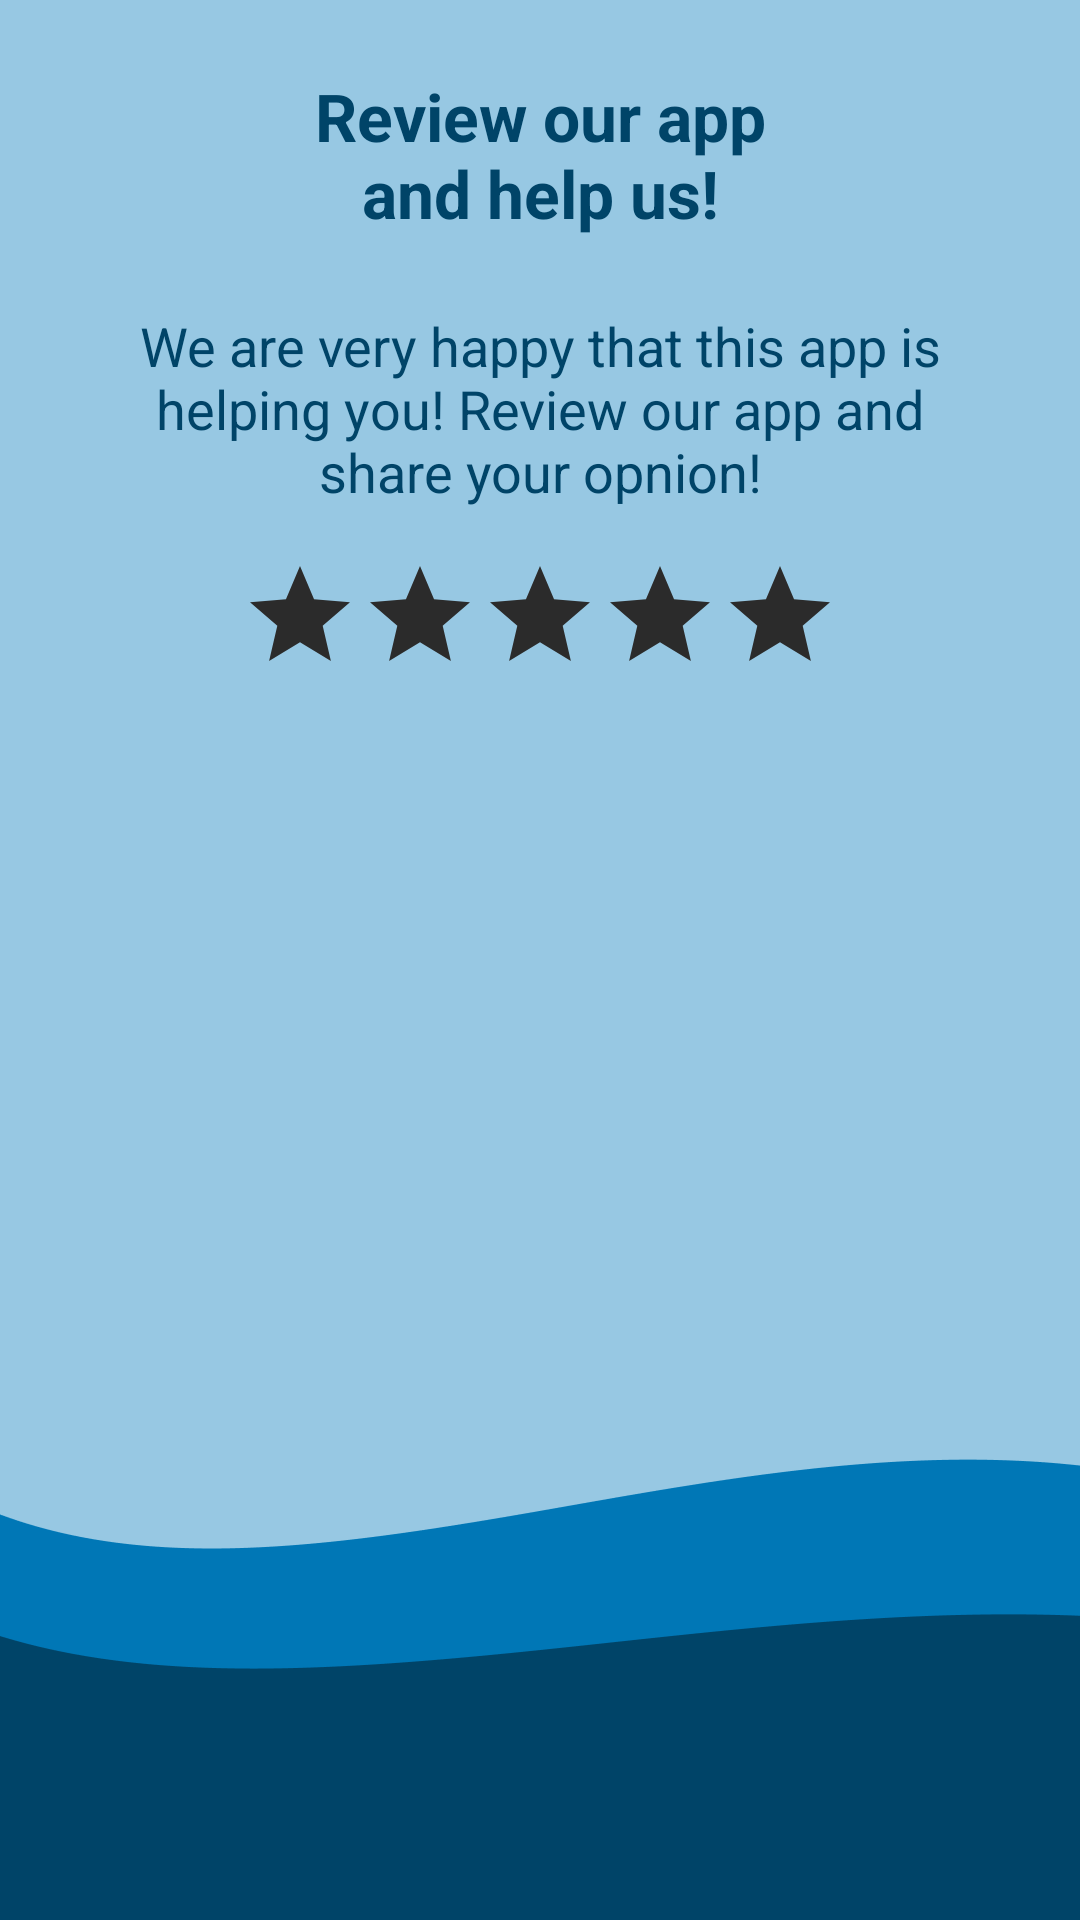

Icon bounding boxes for this 1080px×1920px phone screenshot, format (x1, y1, x2, y2):
star: (250, 566, 350, 661), (370, 566, 470, 661), (490, 566, 590, 661), (610, 566, 710, 661), (730, 566, 830, 661)
